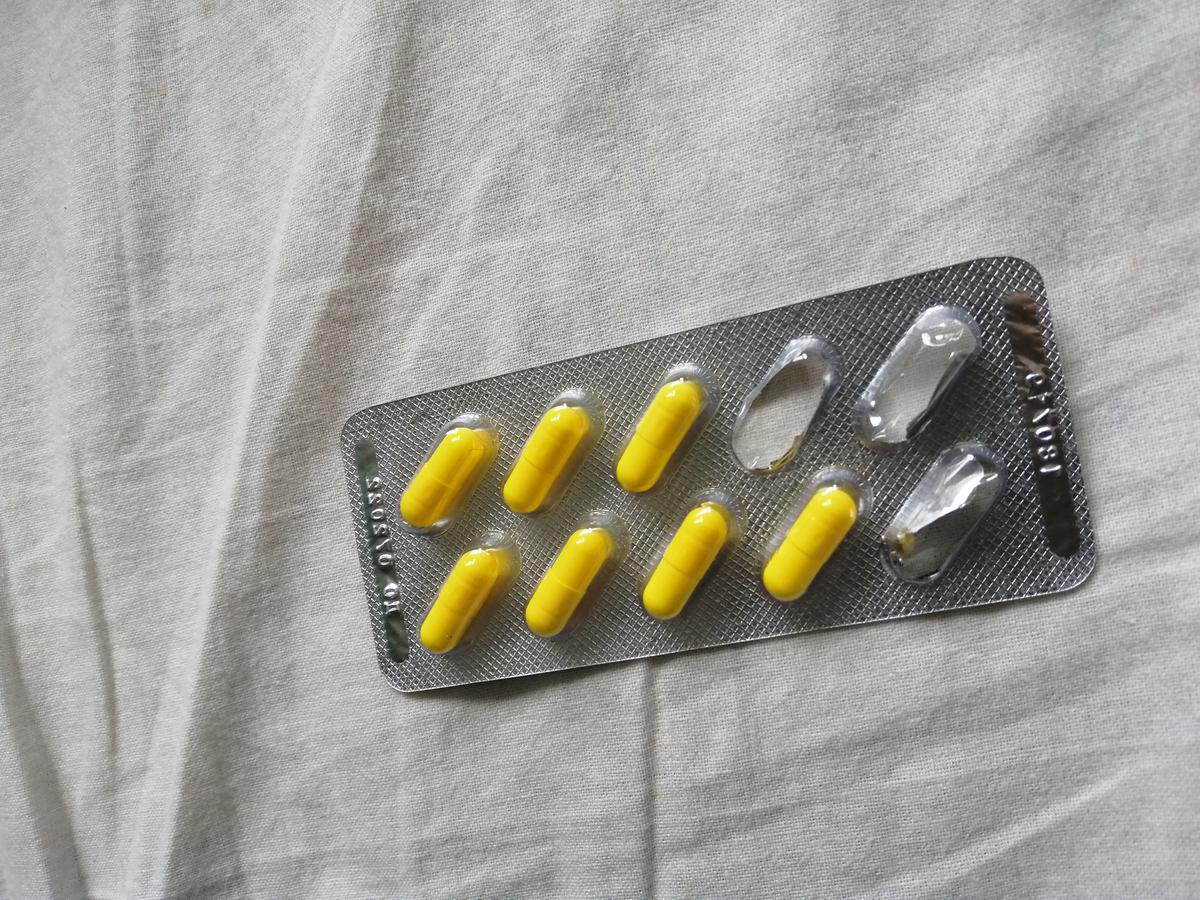capsule: (759, 480, 858, 606), (611, 376, 710, 496), (638, 504, 736, 621), (501, 403, 595, 516), (524, 524, 616, 639), (396, 421, 485, 529), (418, 544, 504, 653)
